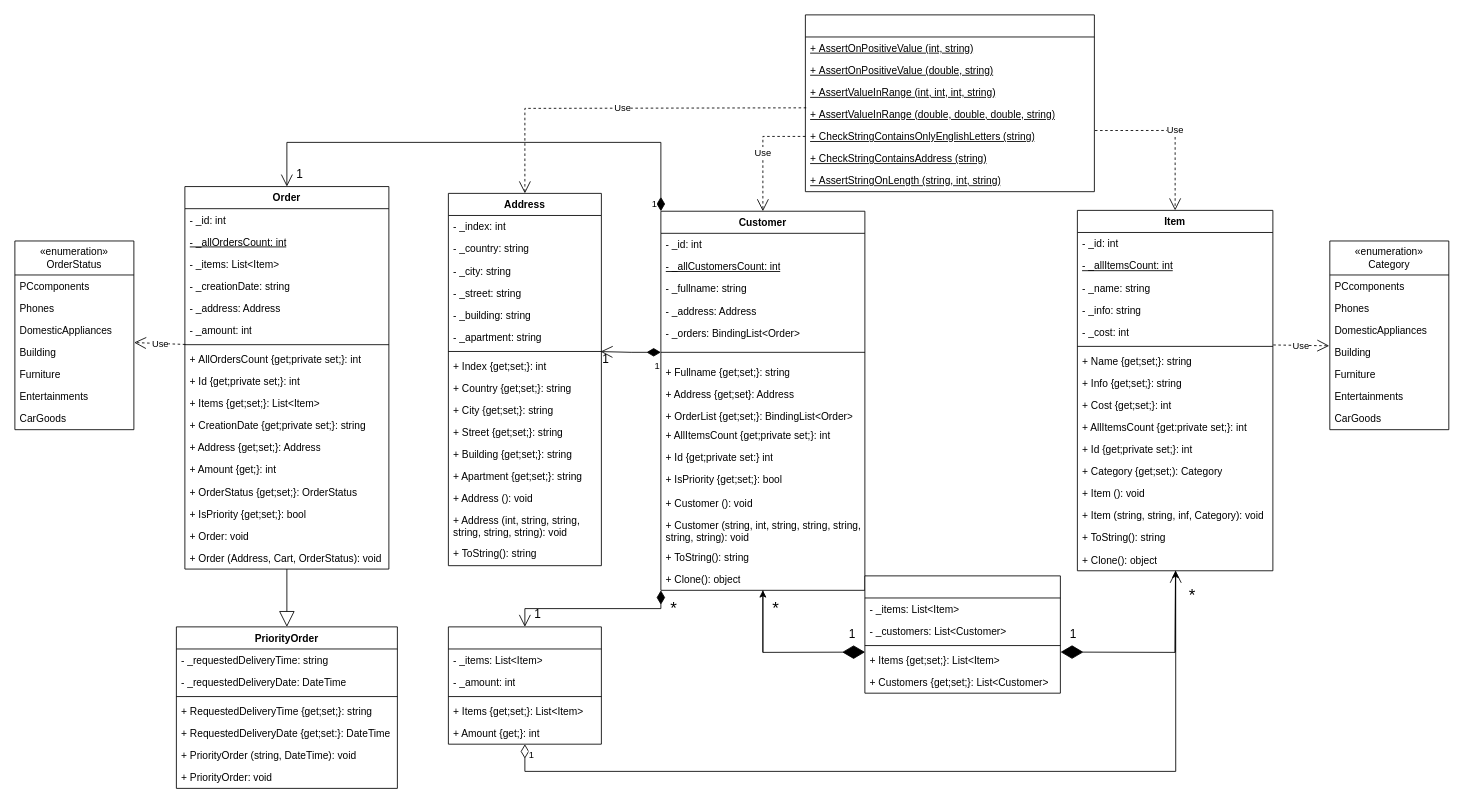
The diagram is 1464 pixels wide and 806 high, and some of its shapes have lost their labels. Each missing label, with the box of its shape:
Cart: (448, 626, 601, 744)
Store: (864, 575, 1060, 693)
Validator: (805, 14, 1094, 192)
